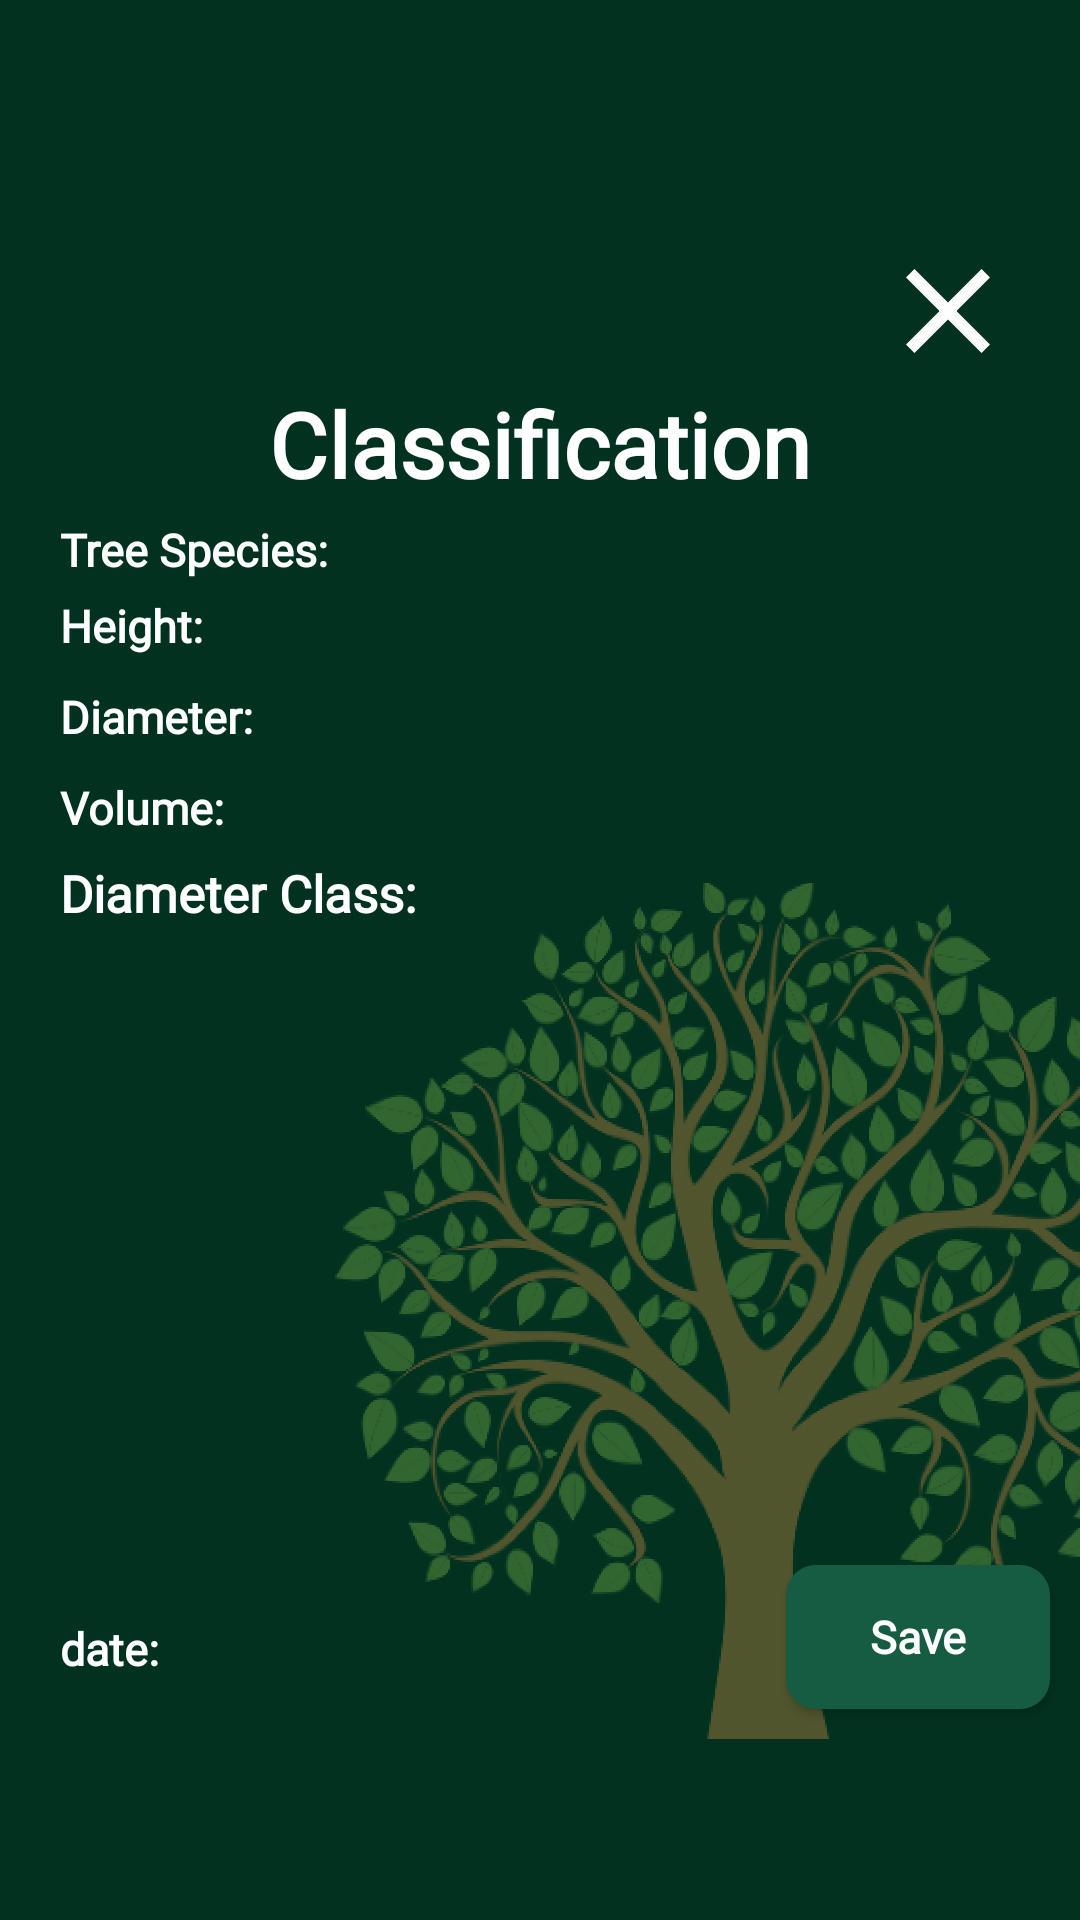

Point at icon controls on the screen. Image size 1080*1920, points as [x,y].
close: [948,311]
